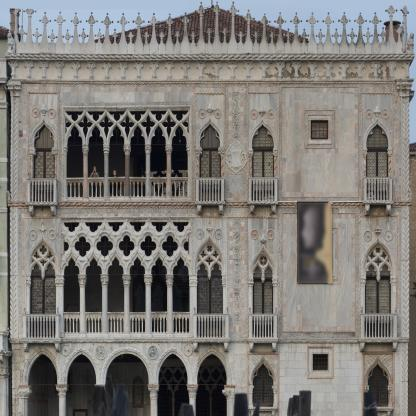Balcony: (62, 313, 191, 339), (66, 177, 189, 201)
Building Outline: (5, 1, 415, 416)
Deco: (233, 218, 241, 326), (404, 32, 415, 53), (6, 32, 16, 53), (207, 103, 215, 115), (41, 103, 48, 116), (39, 222, 46, 234), (206, 222, 213, 234), (6, 190, 12, 203), (375, 223, 381, 236), (407, 188, 413, 201), (374, 106, 380, 117), (259, 106, 265, 117)
Facade: (5, 1, 415, 416)
Floor: (10, 208, 409, 343)
Floor Slab: (10, 201, 409, 208), (10, 337, 409, 344)
Ground Floor: (10, 344, 409, 416)
Molding: (5, 53, 415, 81), (7, 200, 412, 207), (8, 337, 409, 344)
Sill: (20, 337, 62, 353), (358, 337, 400, 352), (191, 338, 231, 353), (247, 337, 279, 353), (362, 200, 394, 216), (194, 201, 226, 215), (247, 201, 279, 214), (248, 407, 278, 416), (365, 407, 394, 416)
Top Floor: (10, 60, 409, 208)
Window: (62, 220, 191, 313), (67, 111, 188, 197), (103, 350, 151, 415), (64, 351, 98, 416), (25, 351, 59, 416), (195, 351, 229, 416), (156, 351, 190, 416), (196, 275, 223, 337), (365, 276, 391, 337), (30, 275, 55, 337), (252, 278, 274, 338), (33, 148, 55, 201), (199, 148, 221, 201), (366, 149, 388, 201), (252, 149, 274, 201), (29, 240, 58, 274), (364, 241, 393, 275), (195, 240, 224, 274), (151, 257, 168, 312), (173, 257, 190, 312), (85, 257, 102, 312), (368, 363, 389, 407), (253, 363, 274, 407), (171, 125, 188, 177), (150, 125, 167, 177), (108, 257, 124, 312), (64, 257, 80, 312), (129, 257, 145, 312), (108, 126, 125, 177), (67, 126, 83, 178), (130, 125, 146, 177), (88, 126, 104, 177), (366, 123, 389, 148), (252, 123, 274, 148), (33, 123, 54, 148), (200, 123, 220, 148), (141, 115, 156, 139), (118, 235, 135, 256), (78, 116, 93, 139), (99, 115, 114, 138), (120, 115, 135, 138), (162, 236, 178, 257), (97, 235, 113, 256), (140, 235, 156, 256), (162, 115, 176, 139), (311, 120, 328, 139), (75, 237, 91, 257), (313, 354, 328, 370), (171, 110, 188, 121), (66, 111, 83, 122), (85, 222, 102, 232), (87, 111, 104, 121), (108, 111, 125, 121), (129, 111, 146, 121), (150, 111, 167, 121), (130, 221, 145, 232), (108, 222, 124, 232), (151, 222, 167, 232), (173, 222, 189, 232), (64, 222, 79, 232), (197, 263, 208, 275), (211, 263, 222, 275), (31, 263, 41, 275), (380, 264, 390, 276), (182, 117, 189, 133), (65, 118, 72, 134), (45, 263, 55, 274), (366, 265, 376, 276), (264, 266, 273, 278), (253, 266, 262, 278), (64, 238, 69, 254), (184, 241, 189, 254), (375, 259, 382, 267), (206, 257, 213, 265), (40, 246, 46, 255), (47, 251, 53, 259), (34, 251, 40, 259), (40, 260, 46, 267), (213, 250, 218, 258), (201, 250, 206, 258), (381, 252, 386, 259), (370, 252, 375, 259), (207, 246, 212, 252), (376, 247, 380, 253)
